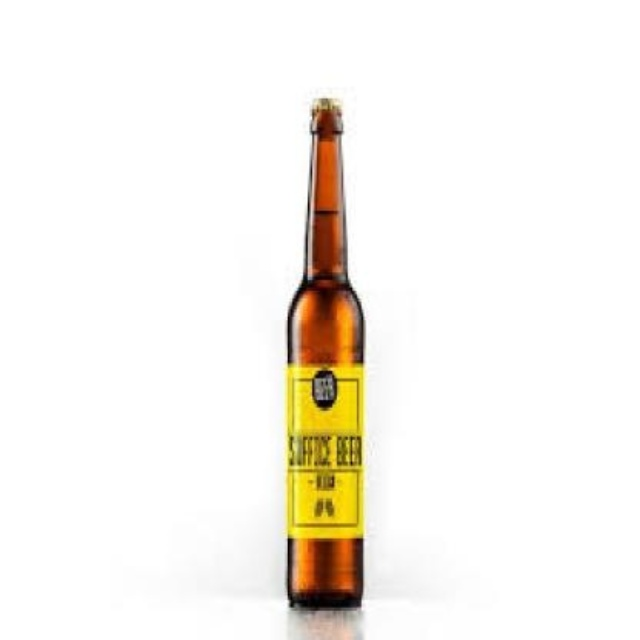trash: (288, 98, 363, 606)
